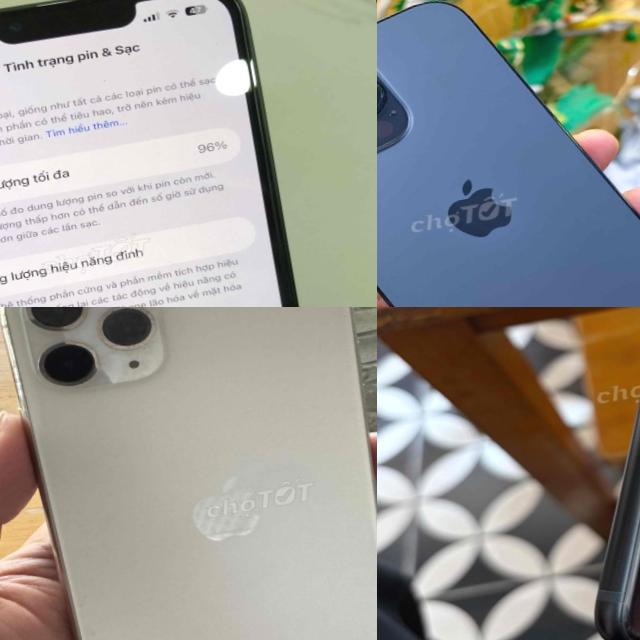gen_11: (0, 307, 377, 640)
gen_12_13: (0, 0, 371, 307)
gen_14: (377, 0, 640, 307)
scratch: (499, 307, 640, 640)
